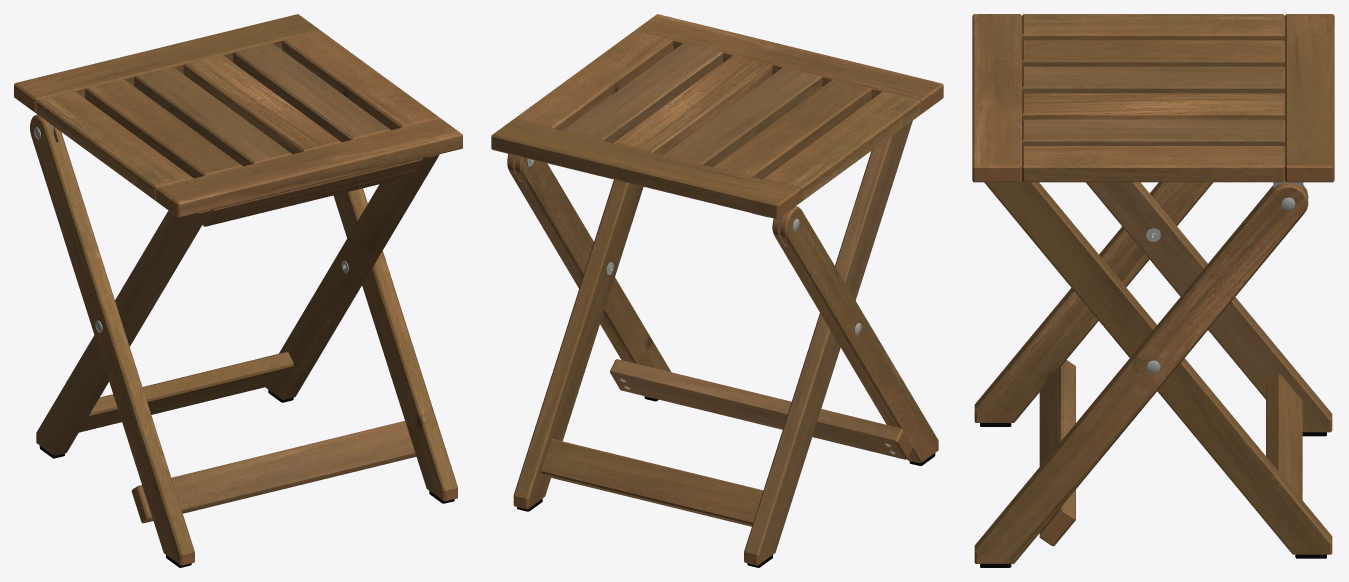
Rendered from nammaro-taburete-de-exterior-plegabletinte-marron-claro.glb.
The picture shows the model from 3 angles, left to right: view 1: azimuth 30°, elevation 25°; view 2: azimuth 150°, elevation 25°; view 3: azimuth 270°, elevation 25°; orthographic projection. The views are drawn at different scales.
Visible parts, largest first — view 1: model; view 2: model; view 3: model.
Boxes of the visible parts, box(x1,y1,x2,y2) form: model: box(14, 14, 462, 567); model: box(491, 14, 943, 567); model: box(972, 14, 1334, 567).
Bounding box in the file's own units: 0.3649 × 0.45 × 0.3649.
1 material, 1 textured.
